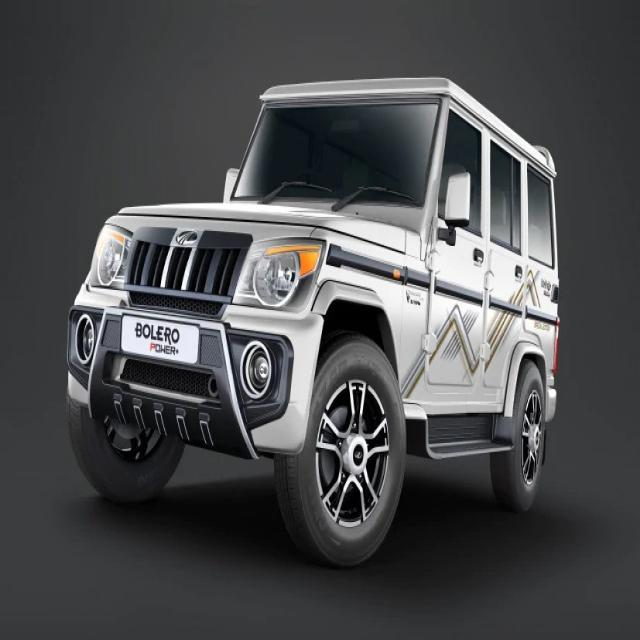light_vehicle: (69, 77, 555, 542)
